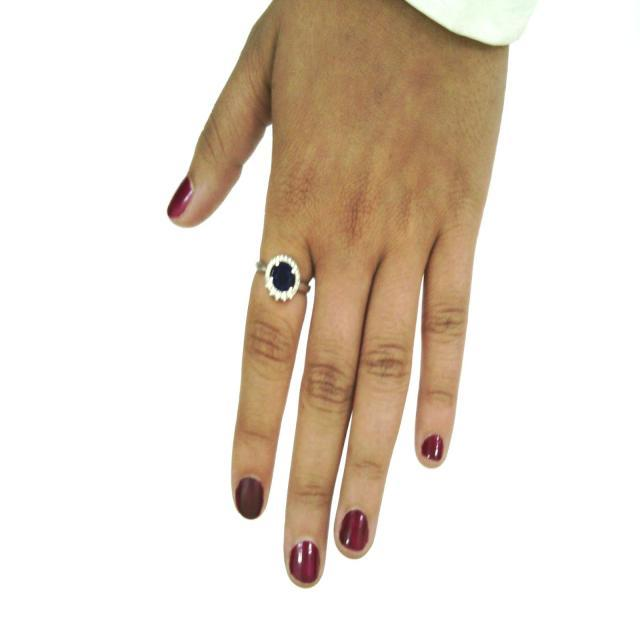Fingernail: (290, 541, 319, 586), (339, 510, 368, 551), (237, 478, 263, 519), (168, 177, 191, 218), (422, 435, 443, 460)
